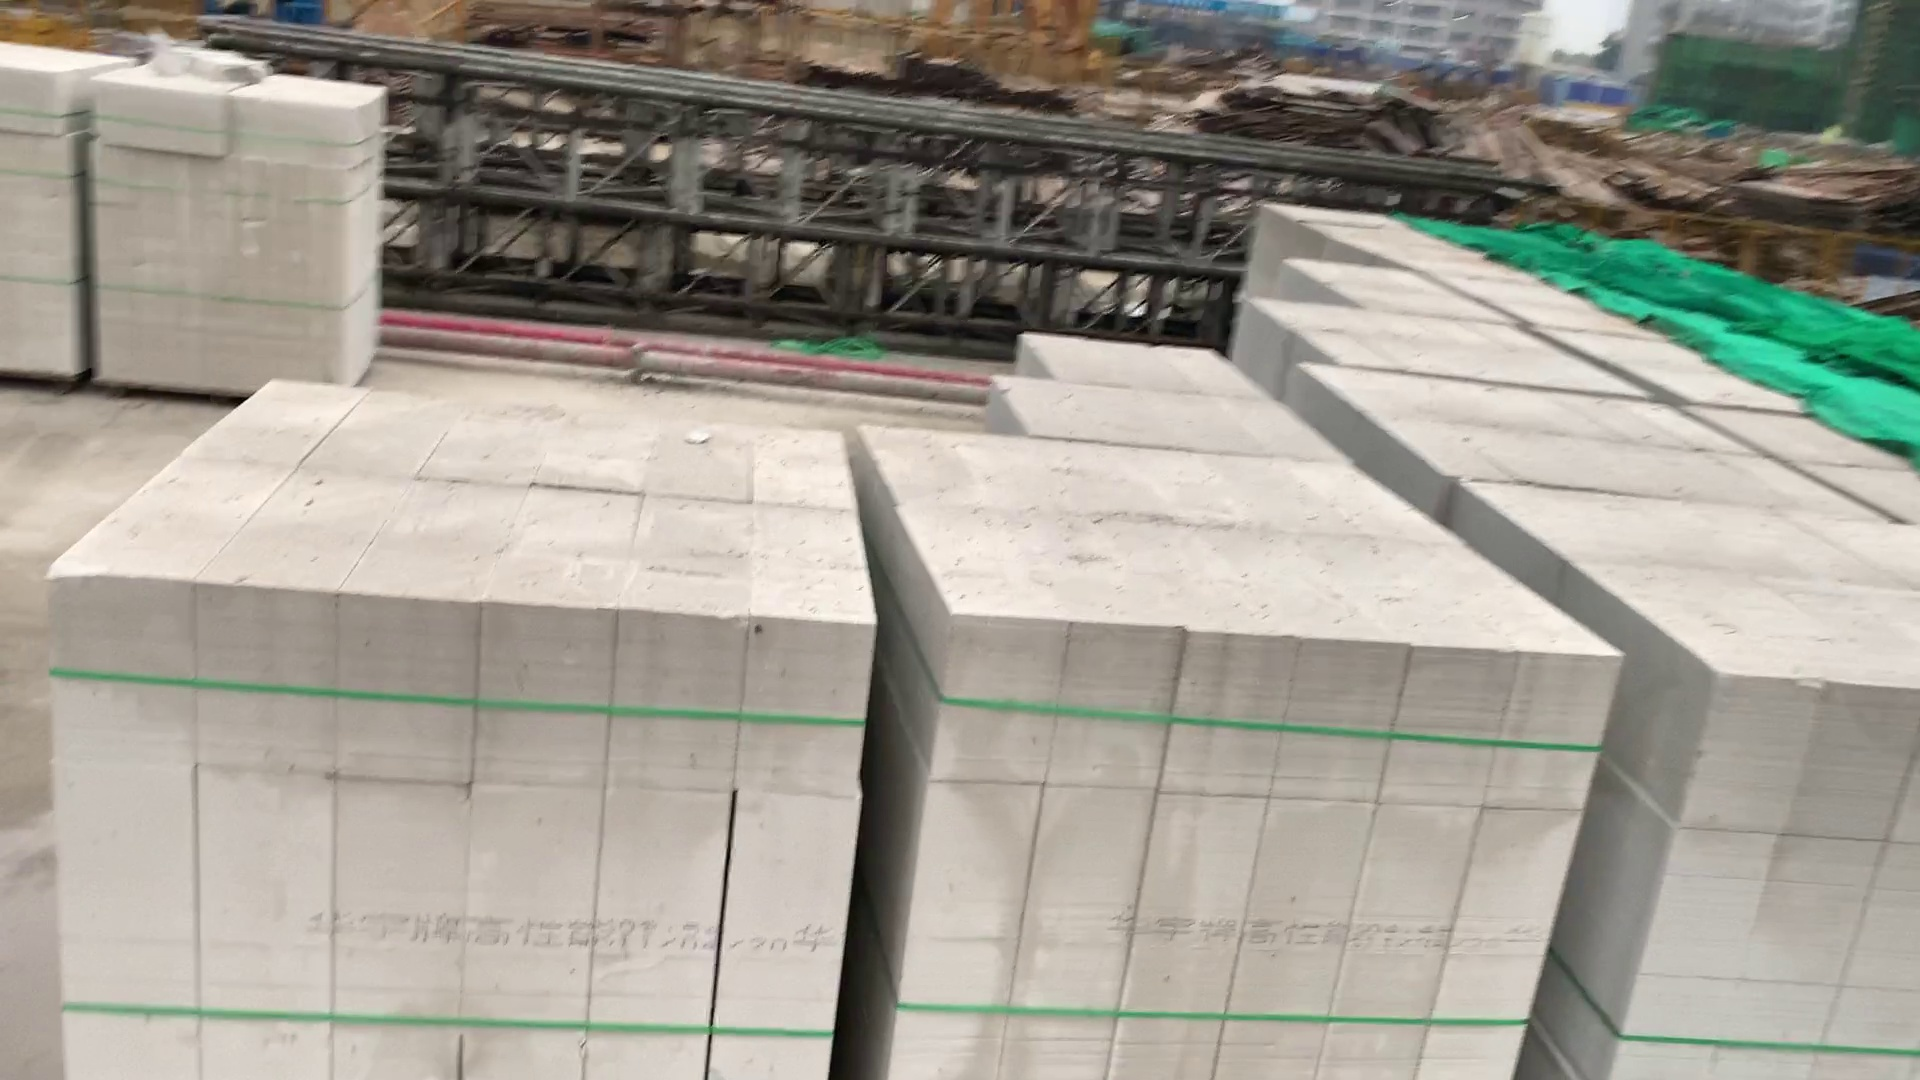brickwork: (65, 380, 862, 1080), (861, 429, 1568, 1080), (1468, 487, 1920, 1077), (98, 57, 381, 393), (1303, 367, 1898, 525), (1284, 319, 1654, 400), (3, 51, 88, 377), (989, 396, 1327, 460), (1547, 324, 1807, 407), (1265, 202, 1522, 276), (1014, 328, 1261, 392), (1283, 262, 1519, 320)
